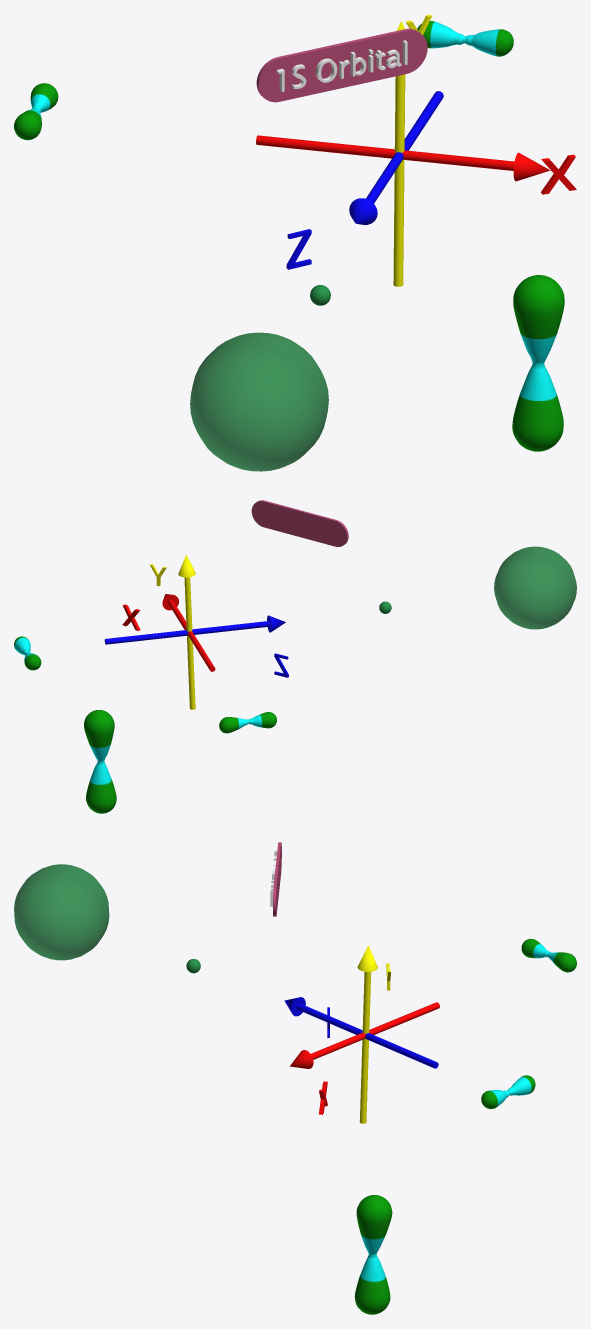
3 renders of one model, top to bottom at view 1: azimuth 30°, elevation 25°; view 2: azimuth 150°, elevation 25°; view 3: azimuth 270°, elevation 25°, orthographic. The views are drawn at different scales.
Visible parts, largest first — view 1: pSphere9, pSphere7, Banner.010, pCylinder2.001, pCylinder2, pSphere5, typeMesh1, pSphere6, pCylinder1, typeMesh6, pCone1, pCone2.001; view 2: pSphere9, Banner.010, pSphere7, pCylinder1, pCylinder2, pSphere6, pSphere5, pCylinder2.001; view 3: pSphere9, pSphere7, pCylinder1, pCylinder2, pCylinder2.001, pSphere6, pSphere5.
Boxes of the visible parts, <box> form: pSphere9: <box>190,332,328,471</box>; pSphere7: <box>512,275,564,451</box>; Banner.010: <box>256,28,427,102</box>; pCylinder2.001: <box>256,135,514,170</box>; pCylinder2: <box>393,74,405,286</box>; pSphere5: <box>417,21,513,56</box>; typeMesh1: <box>276,40,407,91</box>; pSphere6: <box>14,83,58,140</box>; pCylinder1: <box>366,91,443,203</box>; typeMesh6: <box>541,154,576,194</box>; pCone1: <box>349,198,377,224</box>; pCone2.001: <box>513,152,550,181</box>; pSphere9: <box>494,546,576,629</box>; Banner.010: <box>251,500,348,546</box>; pSphere7: <box>84,710,116,813</box>; pCylinder1: <box>104,621,269,644</box>; pCylinder2: <box>184,577,195,709</box>; pSphere6: <box>219,712,276,733</box>; pSphere5: <box>14,636,41,670</box>; pCylinder2.001: <box>168,599,215,671</box>; pSphere9: <box>14,864,109,960</box>; pSphere7: <box>354,1195,392,1314</box>; pCylinder1: <box>296,1003,438,1068</box>; pCylinder2: <box>359,972,371,1123</box>; pCylinder2.001: <box>311,1002,439,1059</box>; pSphere6: <box>521,938,576,972</box>; pSphere5: <box>481,1075,535,1109</box>.
Size of what is drawn, in the model's own units: 0.5129 by 0.4093 by 0.5812.
Materials: 13 (12 with a texture image).
